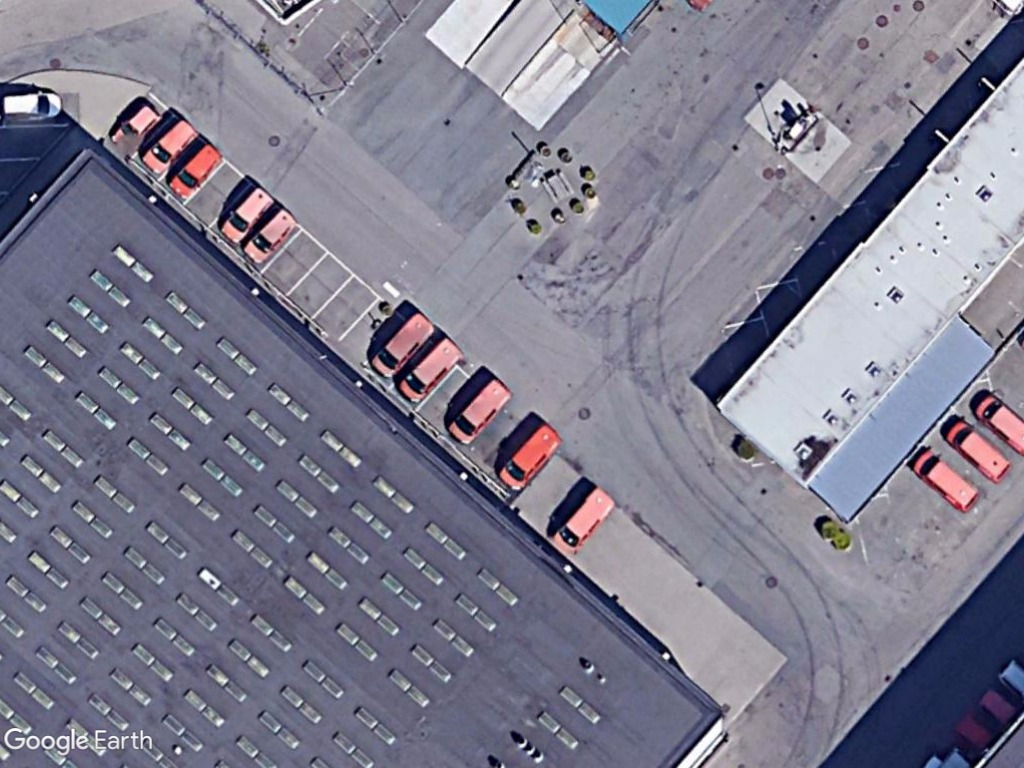van: (490, 416, 566, 498), (441, 369, 513, 451), (906, 444, 986, 514), (547, 482, 619, 558), (940, 415, 1015, 487), (394, 329, 464, 406), (367, 303, 435, 382), (239, 199, 301, 272), (164, 134, 225, 204), (216, 179, 275, 250), (139, 116, 199, 179), (970, 389, 1024, 454), (0, 83, 63, 127)
